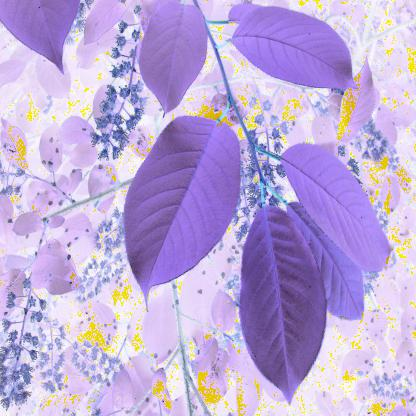cherry leaf: (119, 116, 247, 309), (236, 202, 327, 399), (281, 135, 396, 281), (228, 8, 366, 98), (138, 1, 214, 124)
